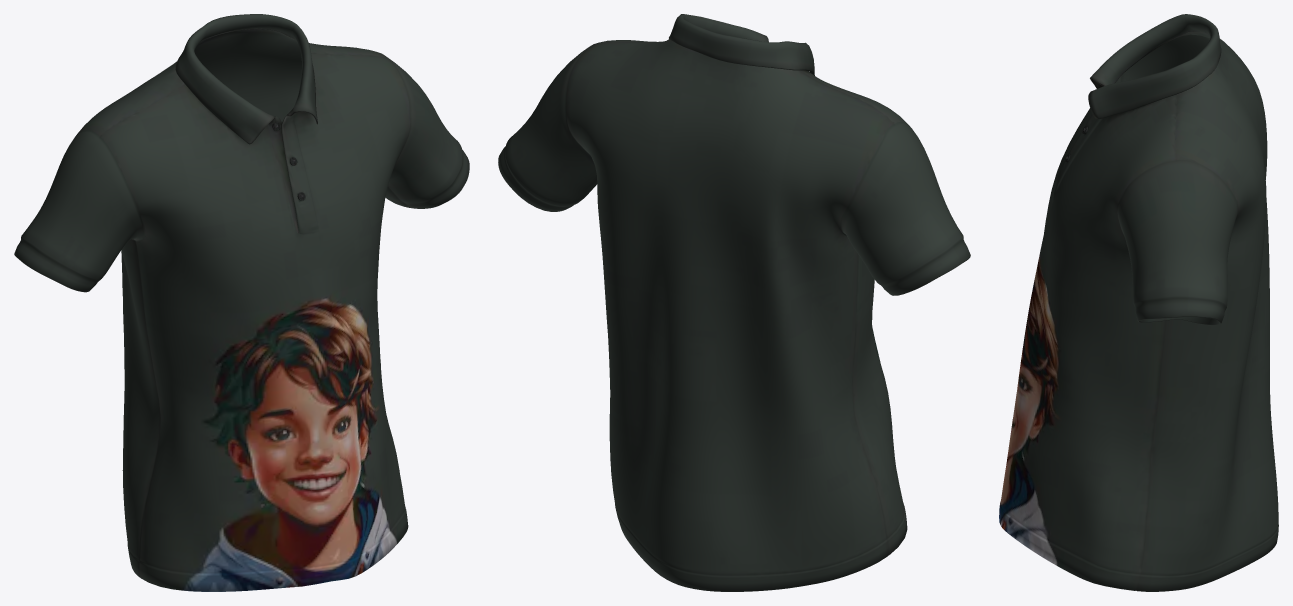
File: 02_polo-t-shirt-opt.glb
3 views of the same model, side by side, from view 1: azimuth 30°, elevation 25°; view 2: azimuth 150°, elevation 25°; view 3: azimuth 270°, elevation 25° (orthographic). The views are drawn at different scales.
Parts seen in each view (by area): view 1: t-shirt-02; view 2: t-shirt-02; view 3: t-shirt-02.
Boxes of the visible parts, left/top/right/bottom form: t-shirt-02: left=14, top=14, right=469, bottom=591; t-shirt-02: left=498, top=14, right=970, bottom=591; t-shirt-02: left=999, top=14, right=1278, bottom=591.
Size of the model in its own units: 0.5917 by 0.6532 by 0.3258.
2 materials, 2 textured.
